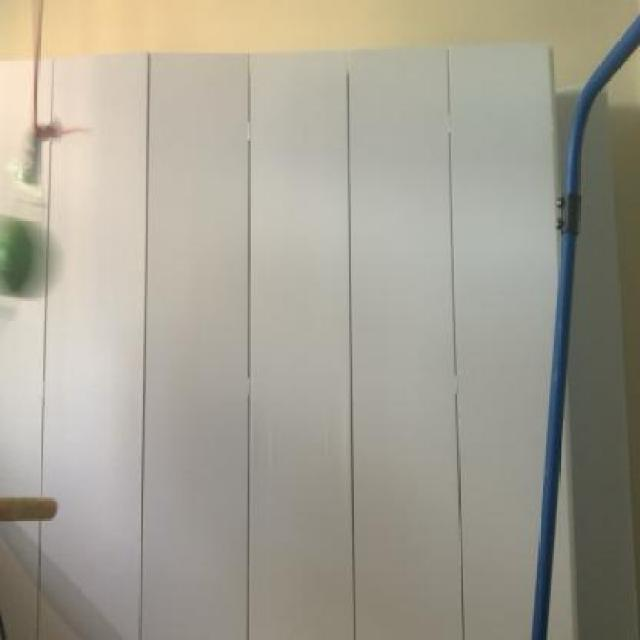baseball: (0, 206, 71, 308)
